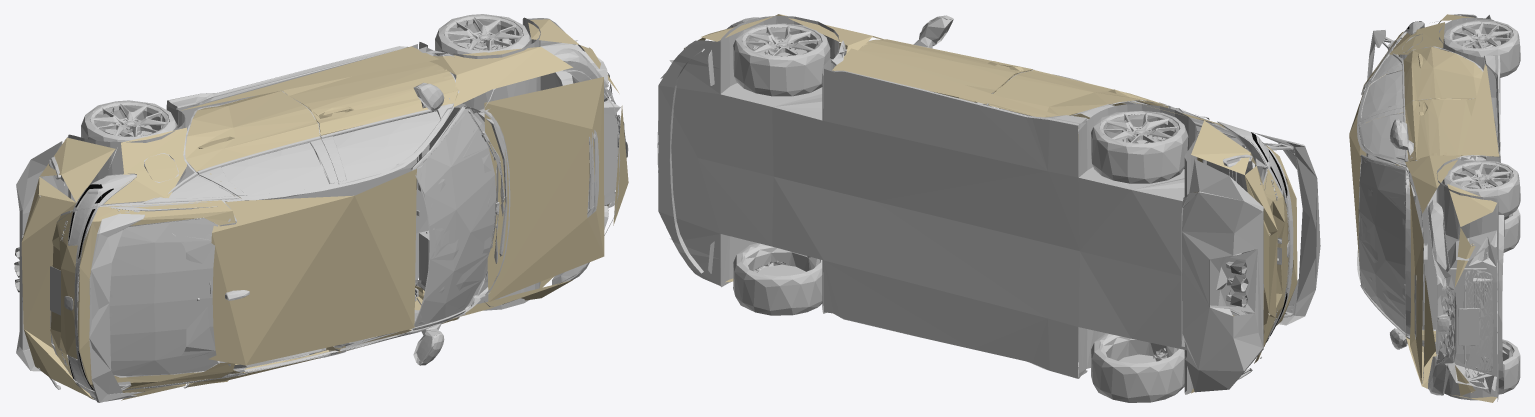
Rendered from honda_civic_type_r_reduced24000.obj.
The picture shows the model from 3 angles, left to right: view 1: azimuth 30°, elevation 25°; view 2: azimuth 150°, elevation 25°; view 3: azimuth 270°, elevation 25°; orthographic projection. The views are drawn at different scales.
Visible parts, largest first — view 1: Object_1111, Object_1462, Object_83, Object_1137, Object_1145, Object_1117, Object_1458, Object_1181, Object_1237, Object_1583, Object_105, Object_115 (+17 smaller); view 2: Object_1583, Object_105, Object_1111, Object_976, Object_974, Object_1145, Object_978, Object_1117, Object_980, Object_1458, Object_865, Object_190 (+12 smaller); view 3: Object_1111, Object_83, Object_1145, Object_1117, Object_115, Object_1073, Object_28, Object_31, Object_865, Object_976, Object_974, Object_1237 (+32 smaller).
Boxes of the visible parts, box(x1,y1,x2,y2) form: Object_1111: box(21, 19, 628, 400); Object_1462: box(89, 218, 217, 375); Object_83: box(414, 109, 496, 327); Object_1137: box(50, 200, 235, 389); Object_1145: box(185, 91, 320, 171); Object_1117: box(283, 61, 458, 135); Object_1458: box(89, 213, 144, 402); Object_1181: box(332, 111, 440, 179); Object_1237: box(221, 142, 329, 195); Object_1583: box(64, 18, 564, 312); Object_105: box(16, 141, 70, 371); Object_115: box(540, 40, 620, 208); Object_1583: box(658, 40, 1186, 378); Object_105: box(1181, 159, 1263, 392); Object_1111: box(698, 14, 1277, 393); Object_976: box(1091, 111, 1188, 183); Object_974: box(733, 23, 830, 96); Object_1145: box(988, 70, 1168, 117); Object_978: box(1091, 333, 1184, 402); Object_1117: box(858, 39, 1032, 104); Object_980: box(733, 243, 822, 315); Object_1458: box(1251, 132, 1320, 325); Object_865: box(720, 15, 839, 120); Object_190: box(1078, 104, 1197, 201); Object_1111: box(1349, 14, 1499, 402); Object_83: box(1359, 158, 1409, 332); Object_1145: box(1403, 46, 1482, 106); Object_1117: box(1405, 99, 1475, 161); Object_115: box(1437, 230, 1496, 390); Object_1073: box(1435, 236, 1496, 393); Object_28: box(1436, 268, 1486, 353); Object_31: box(1464, 268, 1493, 378); Object_865: box(1436, 156, 1500, 241); Object_976: box(1443, 20, 1520, 77); Object_974: box(1442, 160, 1520, 216); Object_1237: box(1361, 71, 1402, 117).
Bounding box in the file's own units: 4.64 × 2.07 × 1.41.
